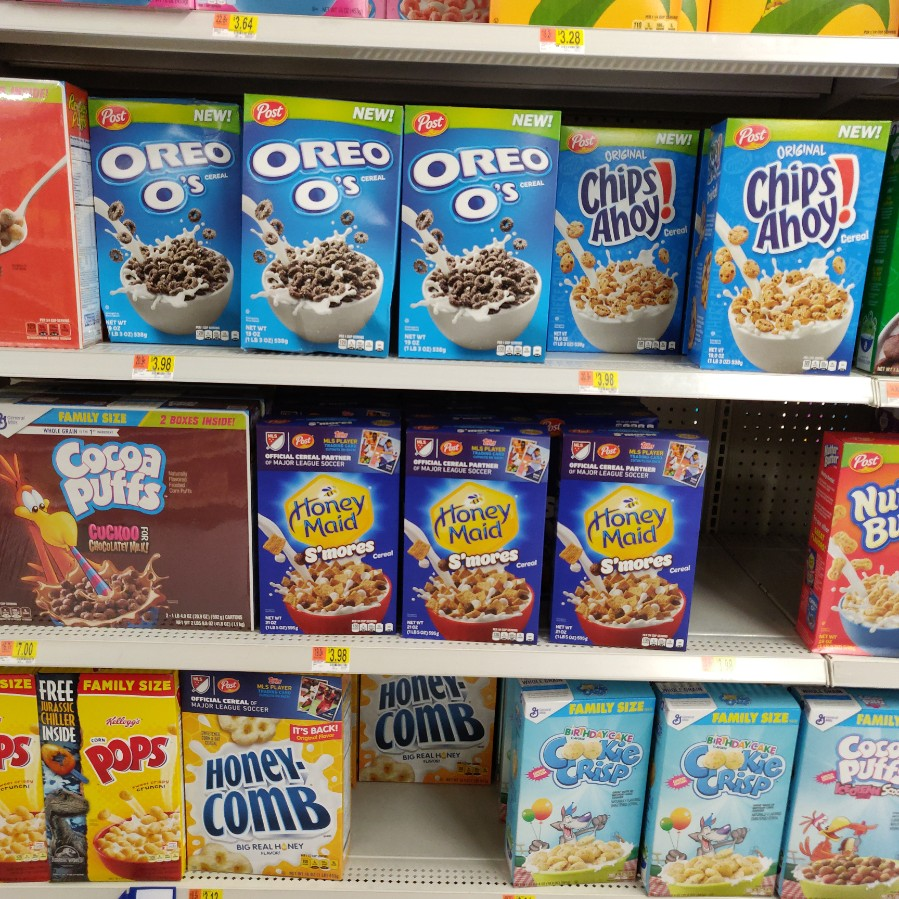Chips Ahoys-565717529: (722, 117, 858, 378), (557, 123, 684, 360)
Honey Comb- 009288857: (176, 670, 347, 879), (360, 669, 496, 785)
Oreo-563424384: (242, 91, 395, 357), (84, 101, 244, 349), (405, 102, 547, 362)
